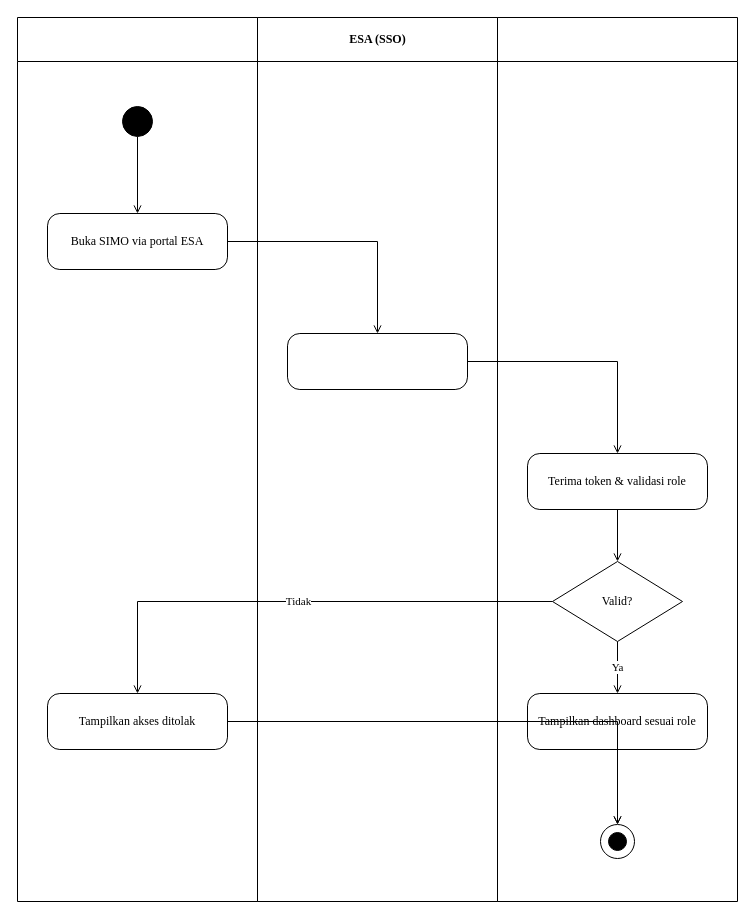
Image size: 755x919. Some labels were removed from this diagram. The box of each missing label's shape, as (x1, y1, x2, y2) in pixels:
Autentikasi SSO: (286, 332, 468, 390)
Pengguna: (16, 16, 258, 902)
SIMO: (496, 16, 738, 902)
